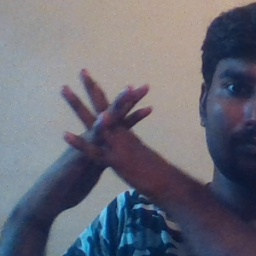W: (53, 60, 159, 184)
